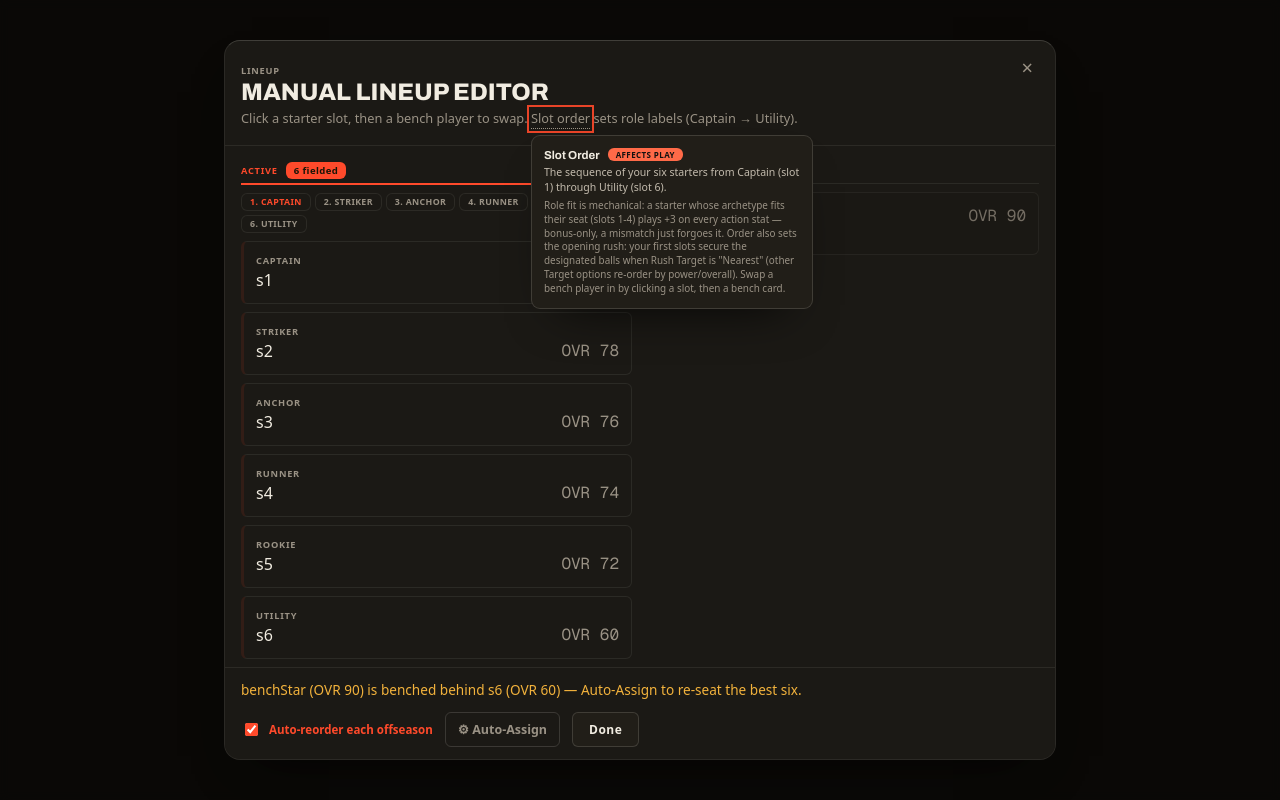
LineupEditor truth behaviors (#51, #52, #53, #55) › #52: a manual save that flips auto-reorder off announces it once, only on the real change
Click the button with test id "lineup-slot-0".
click(279, 261)  # box x1=241 y1=241 x2=632 y2=304
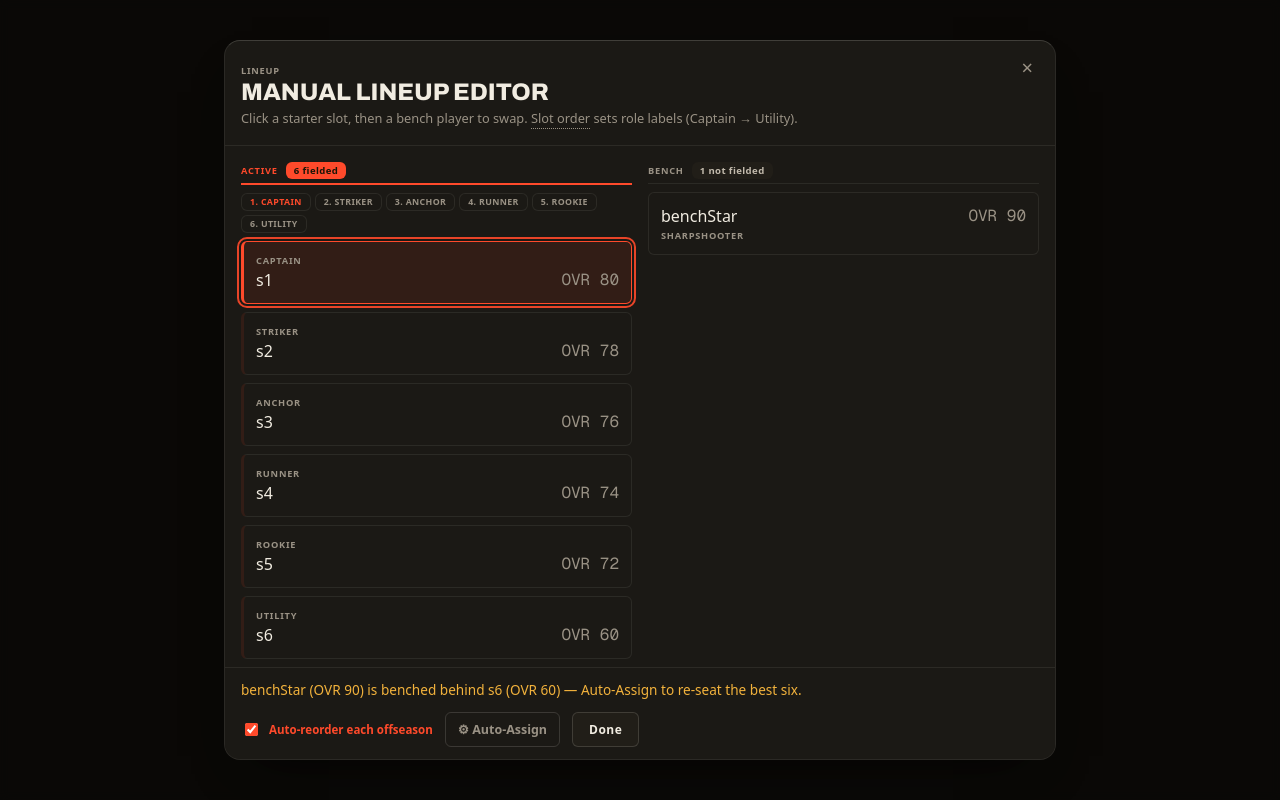
Click the button with test id "lineup-bench-benchStar".
click(699, 216)  # box x1=648 y1=192 x2=1039 y2=255
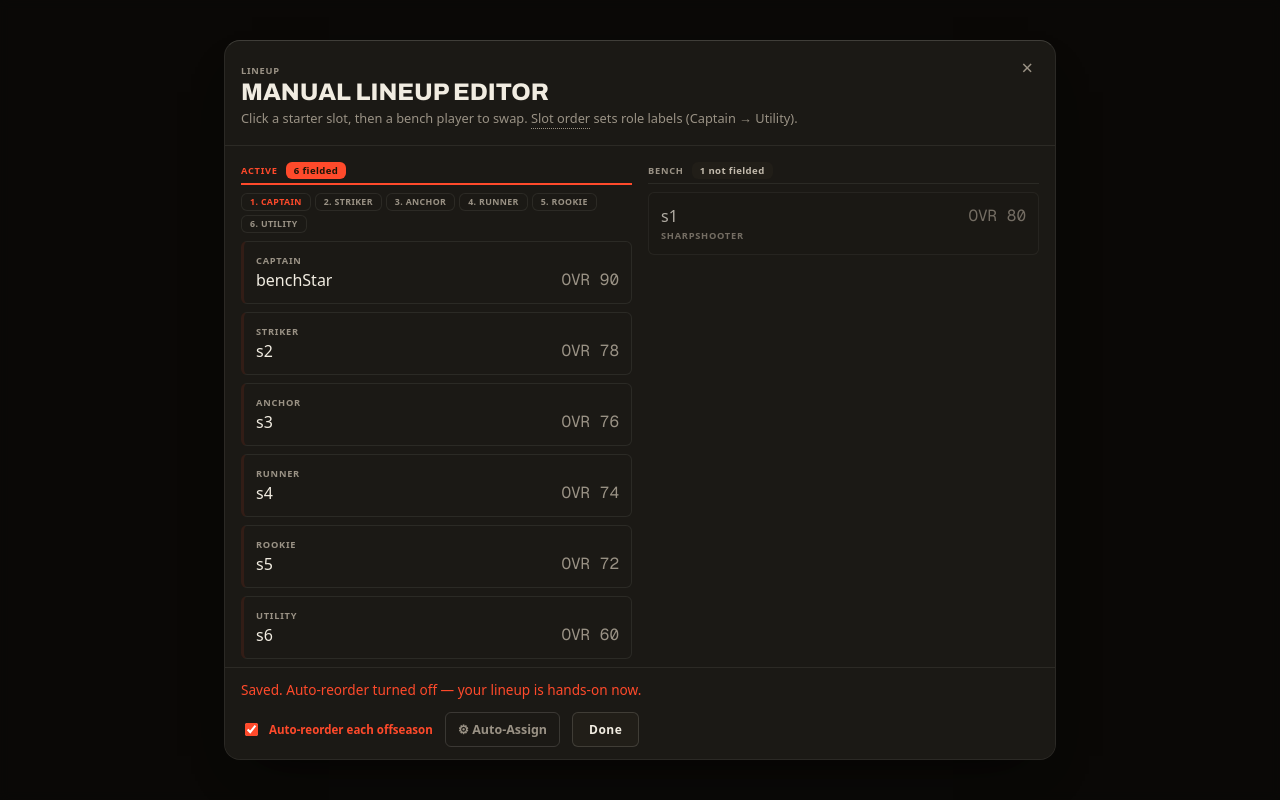
Expected: the text "Auto-reorder turned off" is shown, x1=241 y1=680 x2=641 y2=699
